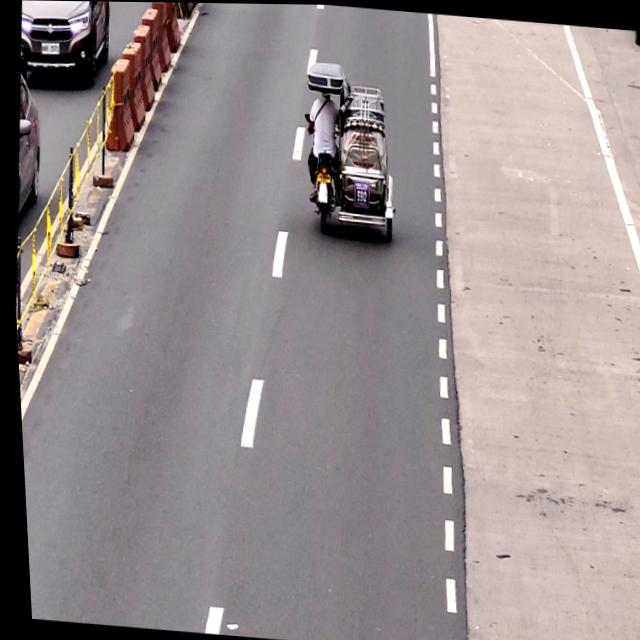Tricycle: (293, 63, 403, 244)
